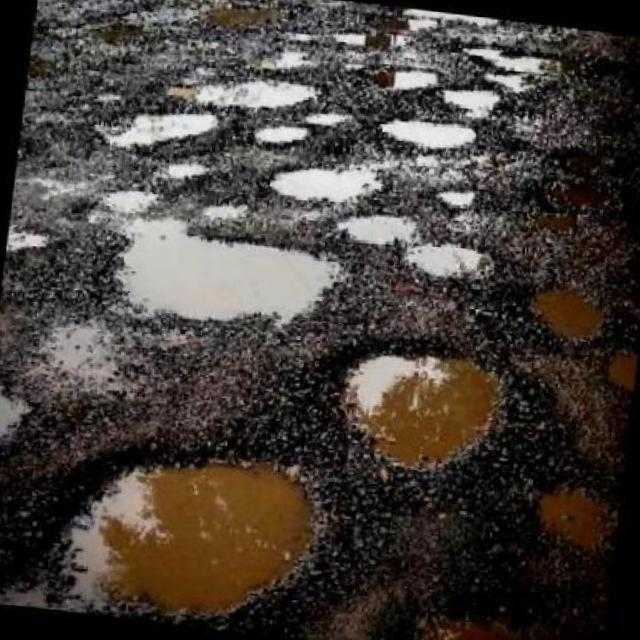Pothole: (54, 460, 315, 621), (74, 191, 338, 323), (340, 352, 505, 469), (337, 215, 481, 277), (540, 488, 616, 554), (270, 165, 388, 207), (103, 114, 219, 152), (170, 81, 322, 109), (533, 286, 605, 344), (454, 46, 543, 91), (416, 614, 567, 640), (381, 121, 476, 150), (368, 65, 443, 91), (442, 90, 501, 120), (254, 123, 313, 149), (608, 349, 639, 397), (201, 203, 249, 227), (160, 162, 209, 182), (0, 388, 19, 438), (10, 232, 50, 254), (438, 188, 476, 208), (306, 112, 352, 127)
